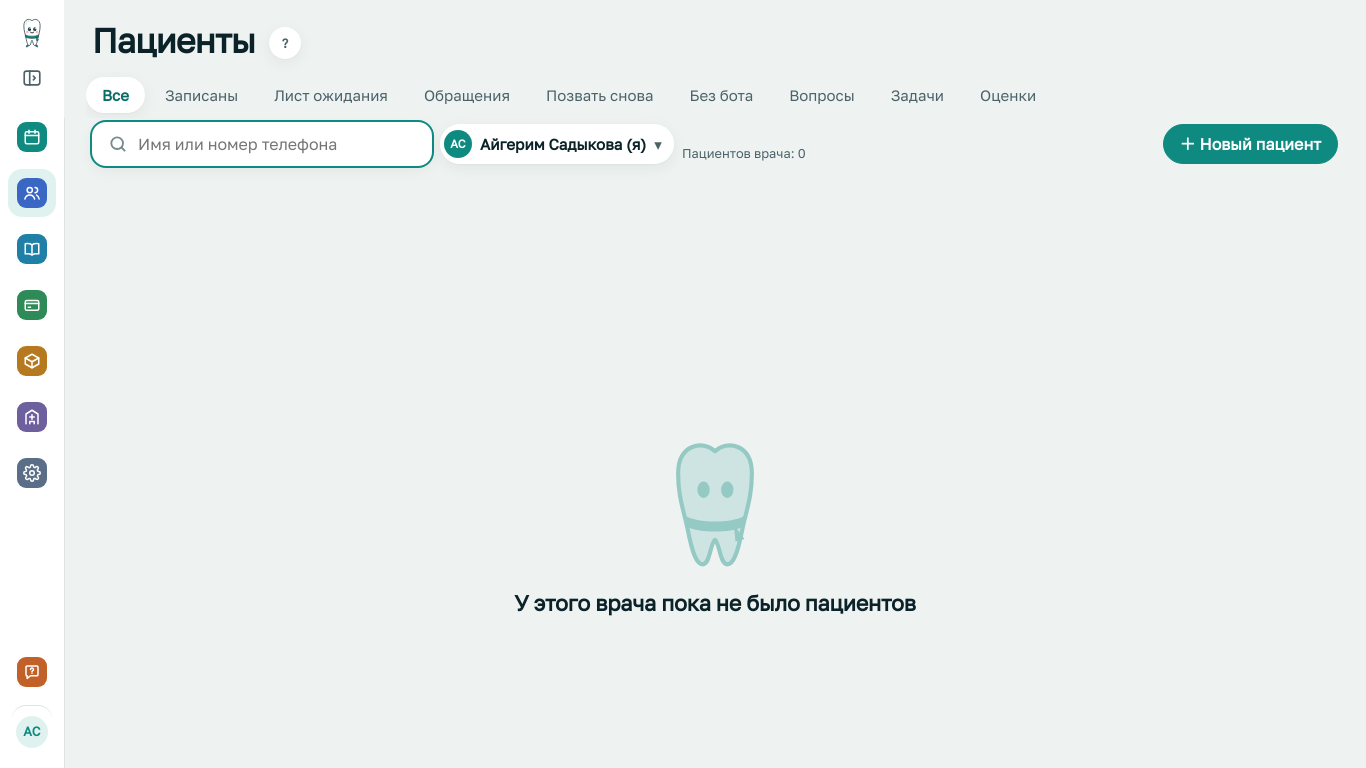
Test case: «Позвать снова»: «пора на осмотр» — последний визит, услуга, с какого дня пора; нет сроков у услуг — подсказка
Later steps or results of the test are not shown.
Expected: the navigation bar named "Разделы" is shown, [8, 113, 56, 497]
Click the link "Позвать снова".
click(600, 95)  # box [546, 86, 653, 104]
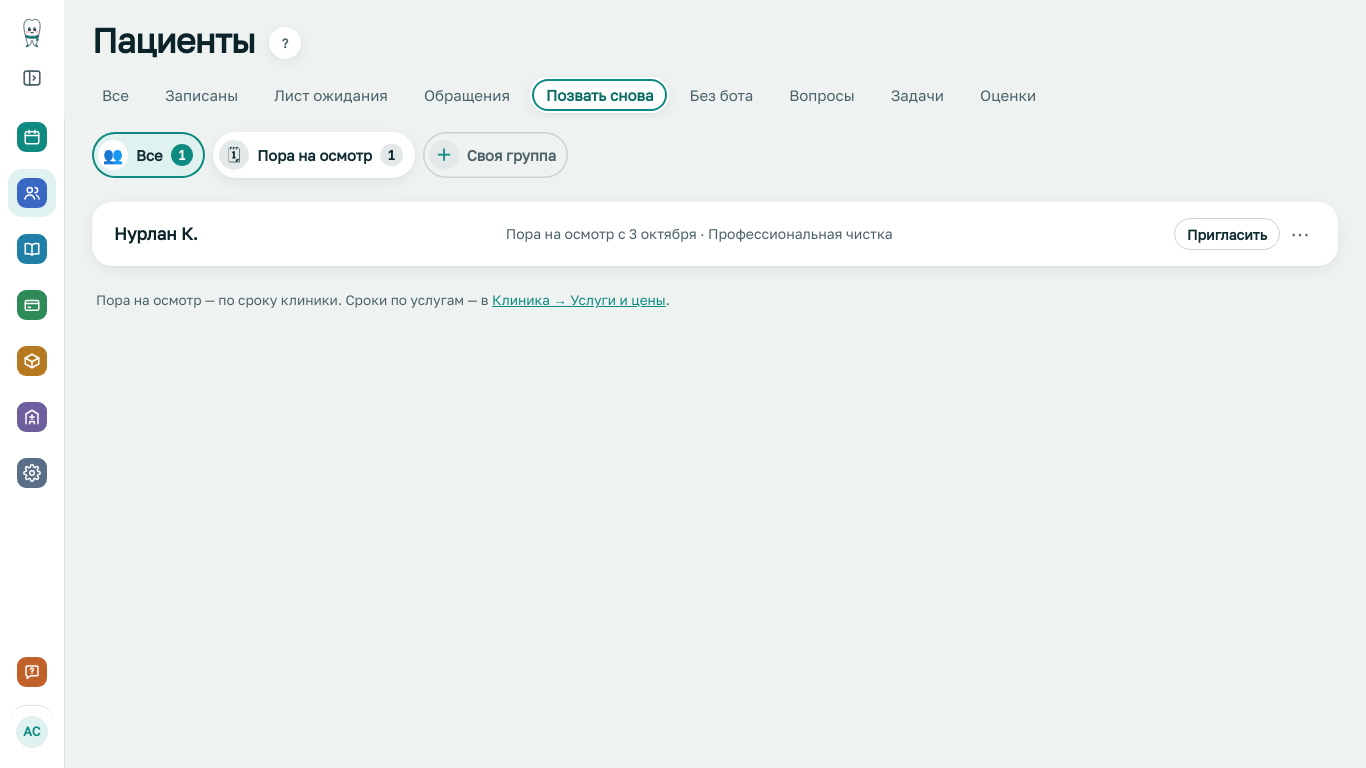
Now the list named "Кого вернуть" reads "Пригласить ⋯", box [506, 224, 893, 242]
